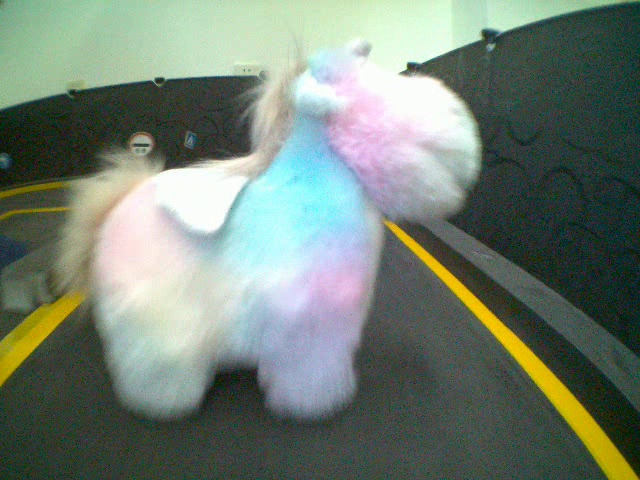unicorn: (37, 11, 490, 426)
